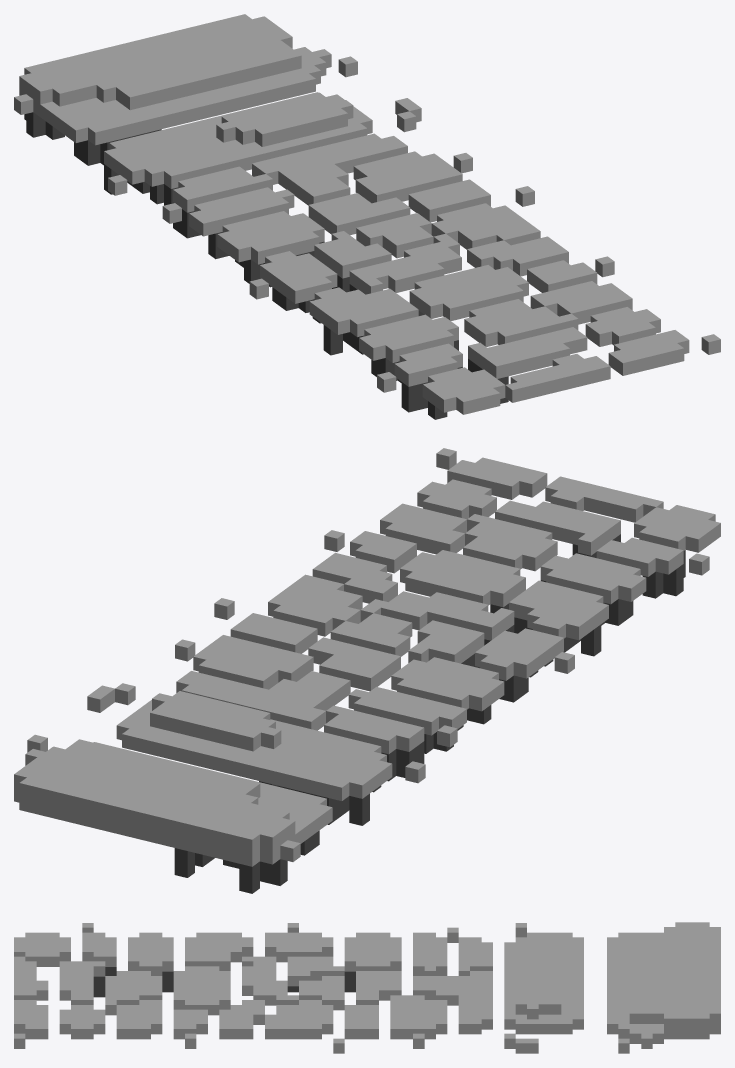
Rendered from mapkari-32.obj.
3 views of the same model, one above another, from view 1: azimuth 30°, elevation 25°; view 2: azimuth 150°, elevation 25°; view 3: azimuth 270°, elevation 25° (orthographic). The views are drawn at different scales.
Parts seen in each view (by area): view 1: mapkari-15; view 2: mapkari-15; view 3: mapkari-15.
Part boxes in pixels (x1,y1,x2,y2): mapkari-15: (14, 14, 720, 419); mapkari-15: (14, 448, 720, 893); mapkari-15: (14, 922, 720, 1053).
Size of the model in its own units: 25 by 4 by 62.
